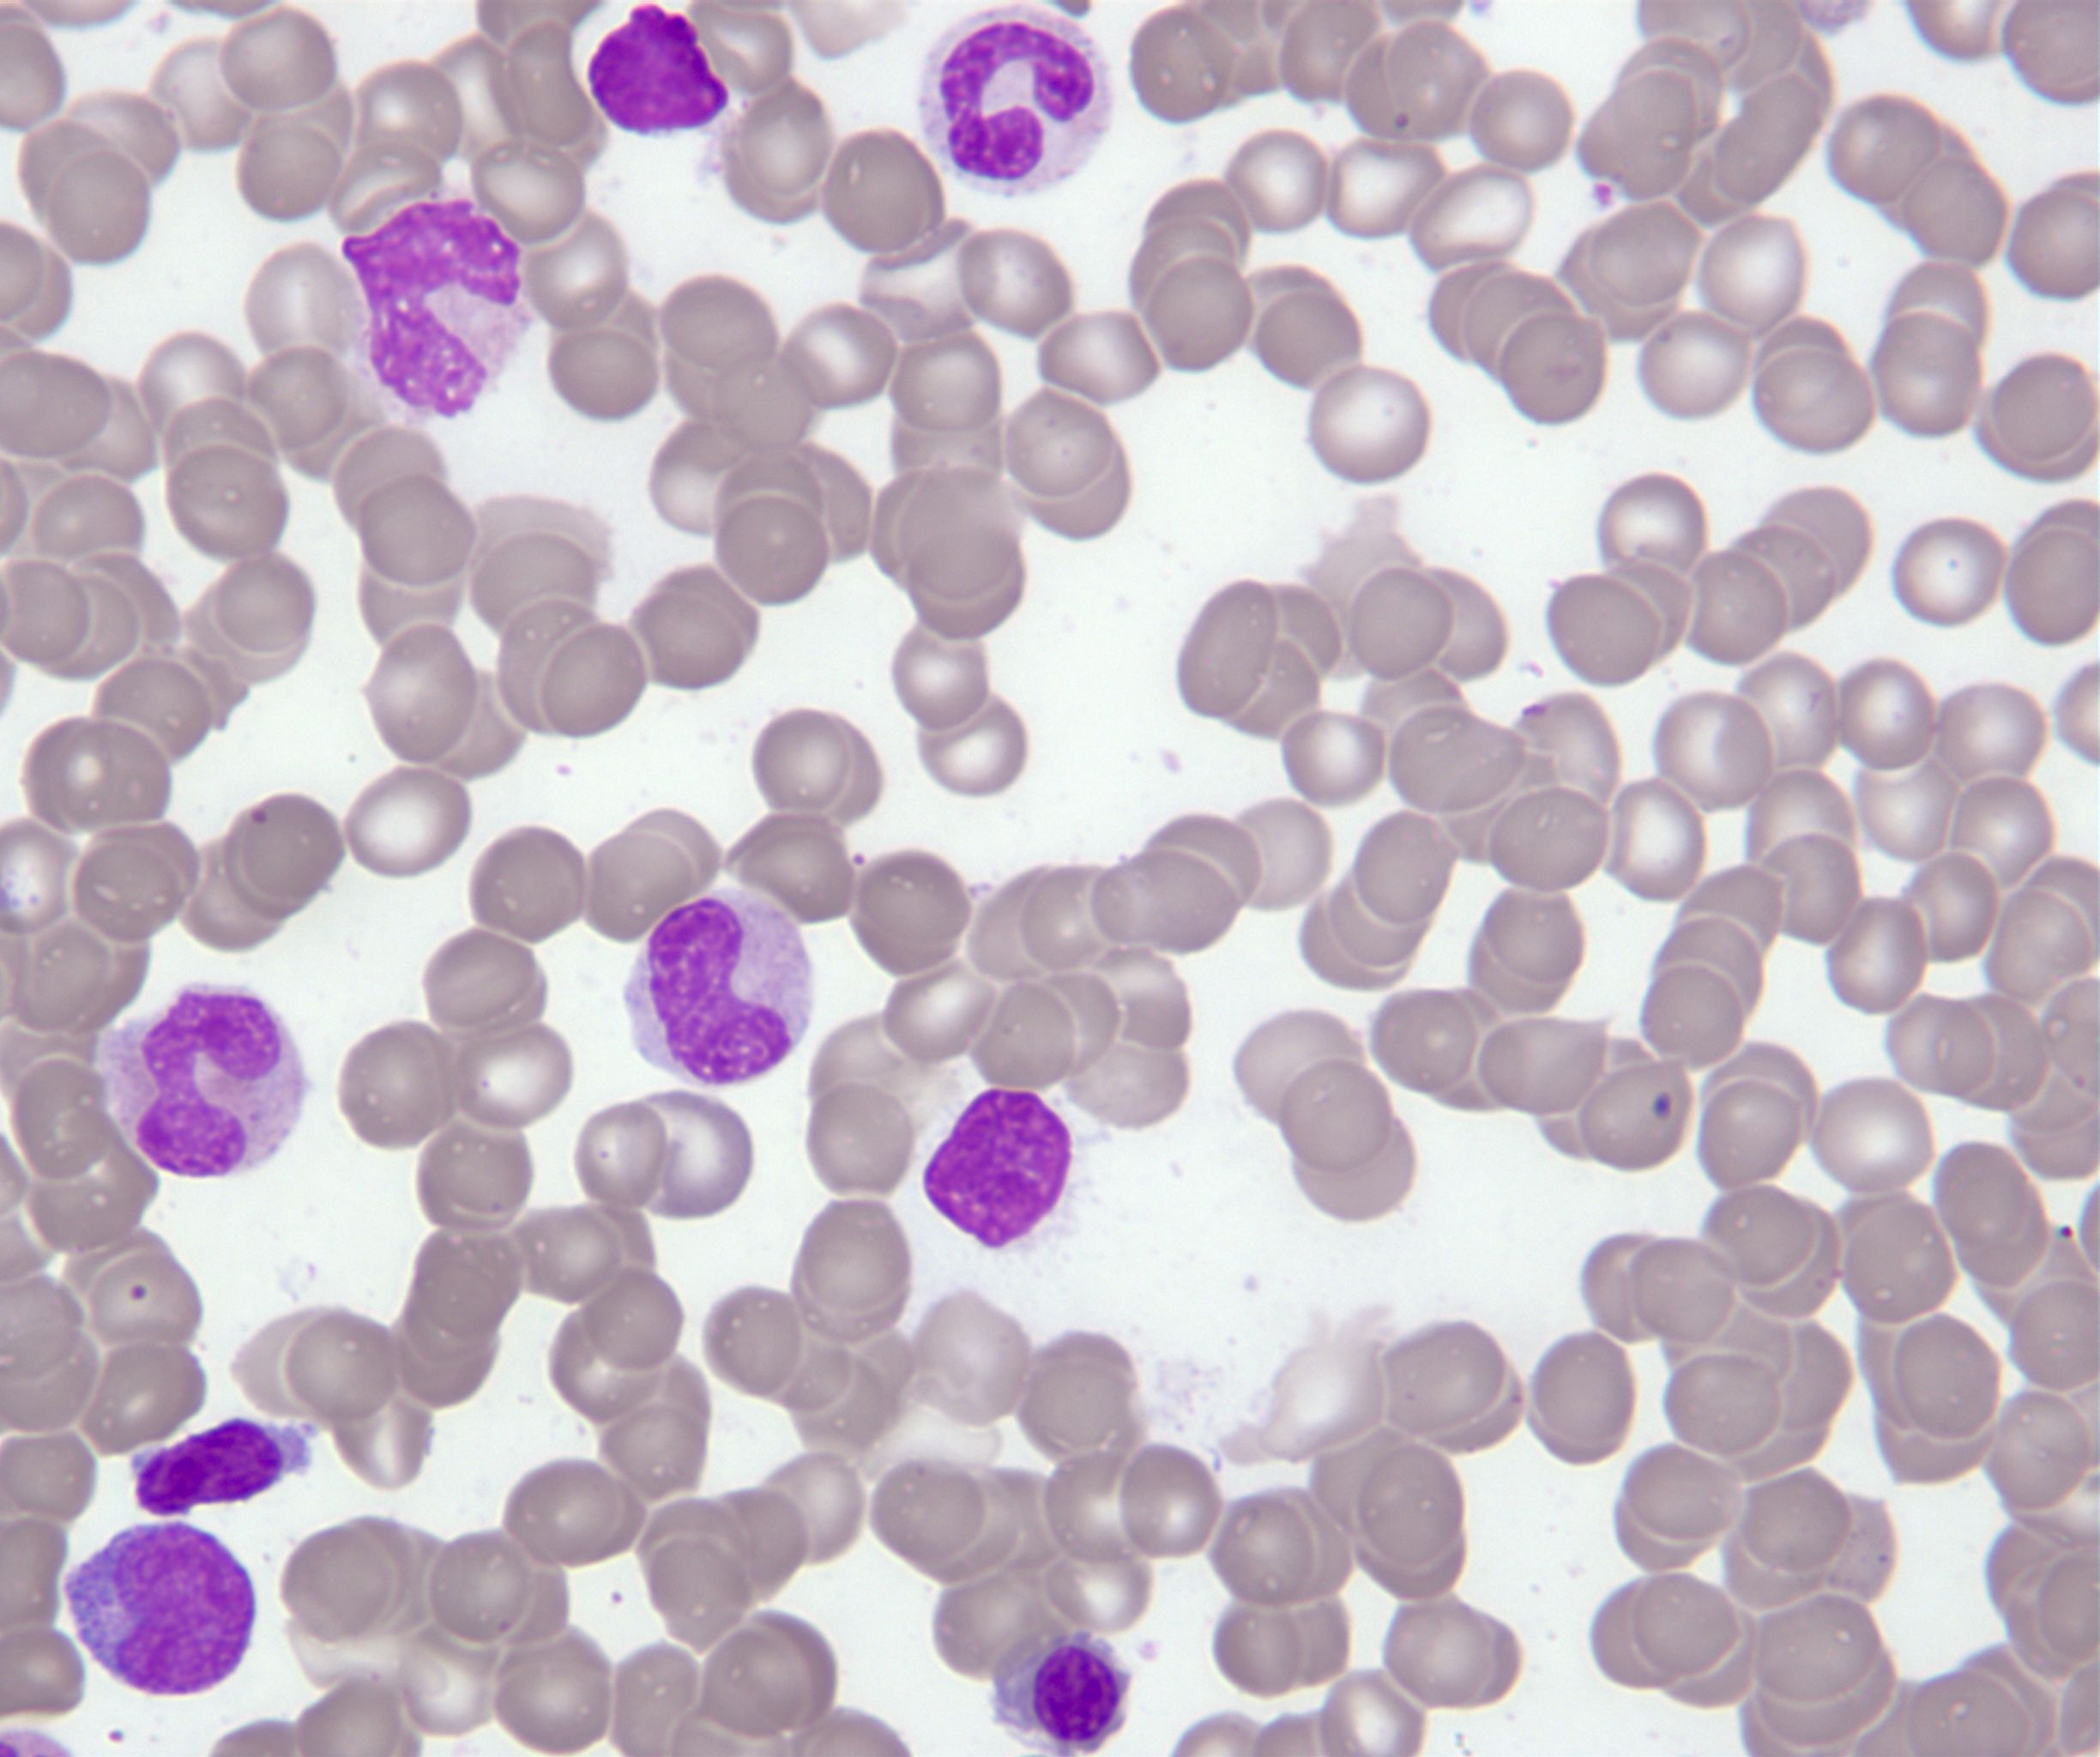32: (120, 1410, 330, 1518)
4: (619, 883, 818, 1094)
42: (58, 1520, 258, 1703)
5: (96, 982, 316, 1185), (916, 0, 1120, 201)
x: (333, 194, 535, 434), (916, 1084, 1076, 1256), (586, 0, 733, 141), (992, 1628, 1135, 1757)
